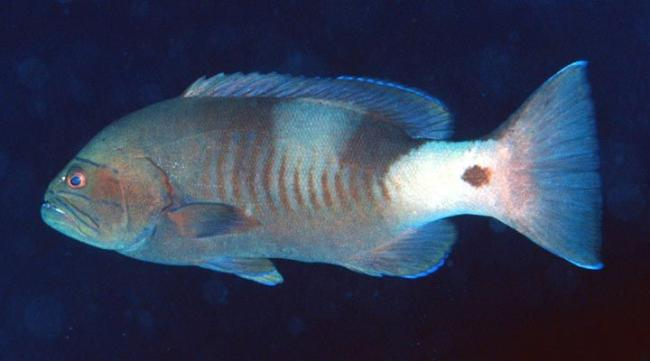fish: (39, 59, 607, 287)
